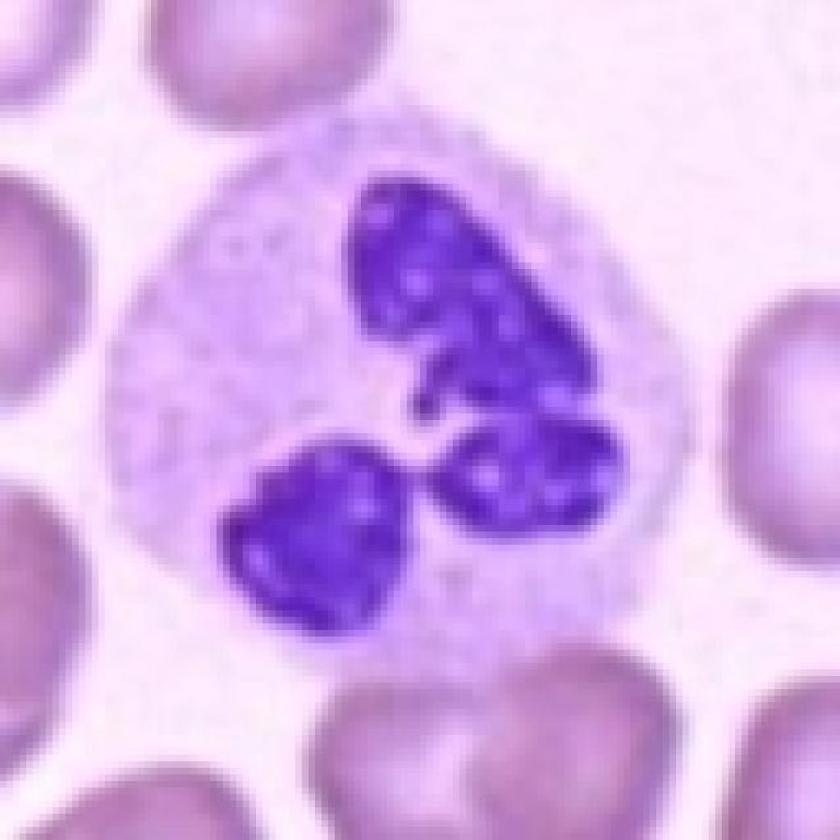neutrophil: (201, 138, 663, 705)
